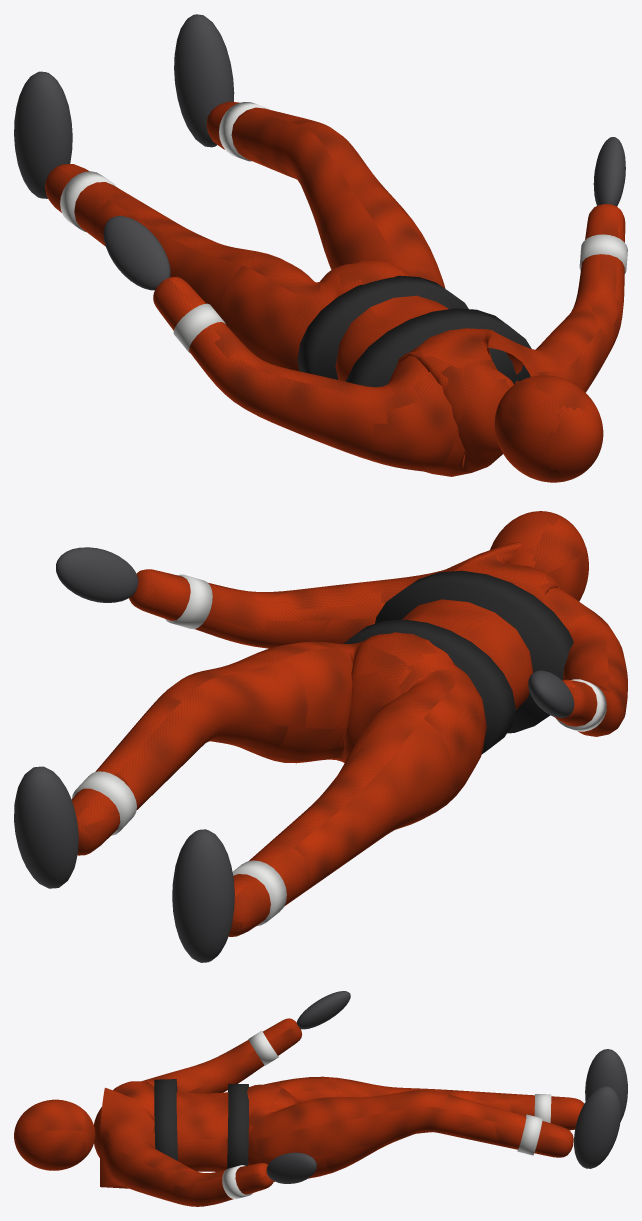
Rendered from dummy_supine.glb.
The picture shows the model from 3 angles, top to bottom: view 1: azimuth 30°, elevation 25°; view 2: azimuth 150°, elevation 25°; view 3: azimuth 270°, elevation 25°; orthographic projection. The views are drawn at different scales.
Parts seen in each view (by area): view 1: dummy_supine; view 2: dummy_supine; view 3: dummy_supine.
Part boxes in pixels (box(x1,y1,x2,y2)): dummy_supine: box(14, 14, 627, 482); dummy_supine: box(14, 511, 627, 962); dummy_supine: box(14, 991, 627, 1206).
Size of the model in its own units: 1.04 by 0.3752 by 1.66.
5 materials, 1 textured.
